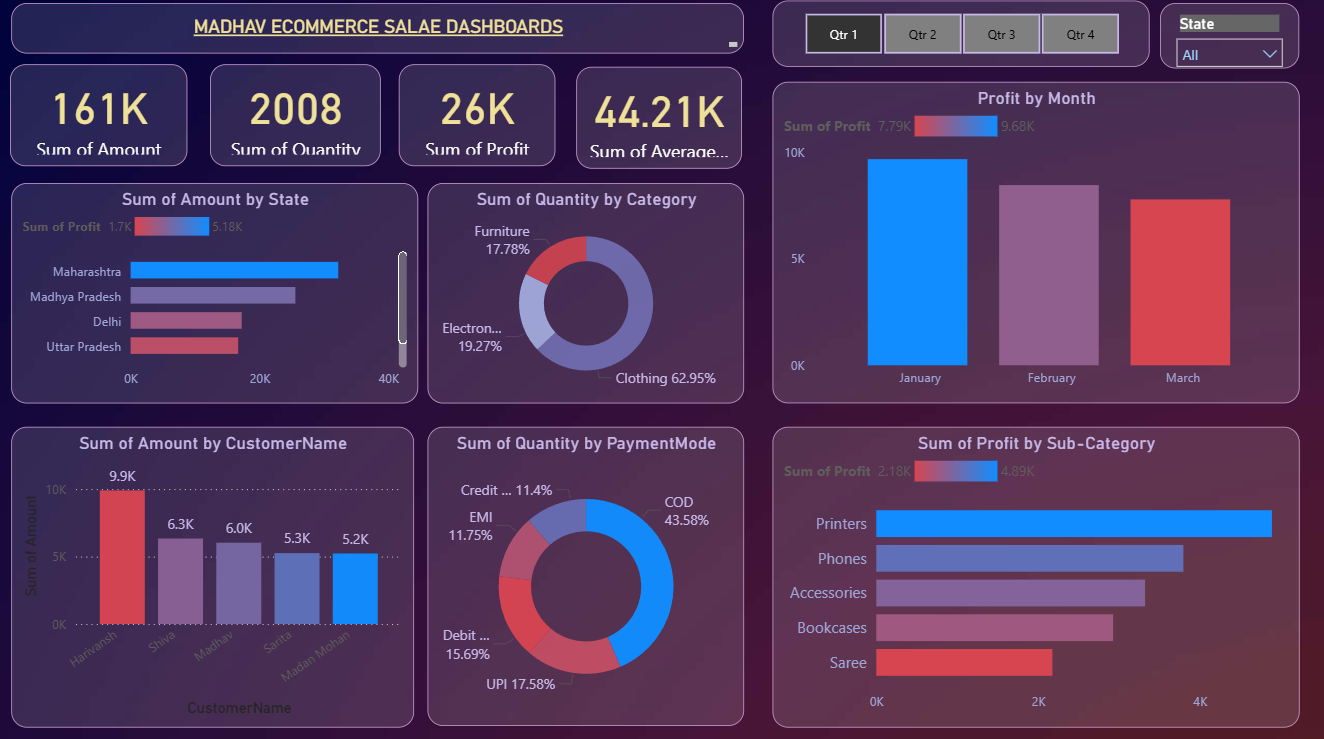

The page's visual inventory and layout, read from the dashboard file:
{"tool":"powerbi","page":{"name":"Page 1","canvas":[1280,720],"ordinal":0},"visuals":[{"type":"textbox","title":"MADHAV  ECOMMERCE SALAE DASHBOARDS","box":[0,4.8,708.2,48.3],"z":0},{"type":"columnChart","title":" Profit by Month","fields":{"Category":["Orders.Order Date.Variation.Date Hierarchy.Month"],"Y":["Details.Profit"]},"box":[745.7,81.4,508.6,310],"z":1000},{"type":"barChart","fields":{"Category":["Details.Sub-Category"],"Y":["Details.Profit"]},"box":[745.7,414.3,508.6,290],"z":3000},{"type":"donutChart","fields":{"Category":["Details.Category"],"Y":["Details.Quantity"]},"box":[412.9,178.6,305.7,212.9],"z":4000},{"type":"donutChart","fields":{"Y":["Details.Quantity"],"Category":["Details.PaymentMode"]},"box":[412.9,414.3,305.7,288.6],"z":5000},{"type":"card","fields":{"Values":["Details.Amount"]},"box":[10,63.8,171.2,98.8],"z":6000},{"type":"card","fields":{"Values":["Details.Quantity"]},"box":[202.5,63.8,165,98.8],"z":7000},{"type":"card","fields":{"Values":["Details.Profit"]},"box":[385,63.8,151.2,98.8],"z":8000},{"type":"card","fields":{"Values":["Details.Average oeder value"]},"box":[556.2,66.2,160,98.8],"z":9000},{"type":"barChart","fields":{"Category":["Orders.State"],"Y":["Details.Amount"]},"box":[11.4,178.6,392.9,212.9],"z":10000},{"type":"columnChart","fields":{"Category":["Orders.CustomerName"],"Y":["Details.Amount"]},"box":[11.4,414.3,388.6,290],"z":11000},{"type":"slicer","fields":{"Values":["Orders.Order Date.Variation.Date Hierarchy.Quarter"]},"box":[745.7,2.9,364.3,64.3],"z":12000},{"type":"slicer","fields":{"Values":["Orders.State"]},"box":[1120,4.3,134.3,62.9],"z":13000}]}

Visuals, with their boxes in screenshot pixels (x1, y1, x2, y2), scaled from the page's 1280x720 canvas onto the 1324x739 screenshot:
"MADHAV  ECOMMERCE SALAE DASHBOARDS" textbox: 0/5/733/55
" Profit by Month" columnChart: 771/84/1297/402
barChart - Details.Sub-Category x Details.Profit: 771/425/1297/723
donutChart - Details.Category x Details.Quantity: 427/183/743/402
donutChart - Details.Quantity x Details.PaymentMode: 427/425/743/721
card - Details.Amount: 10/65/187/167
card - Details.Quantity: 209/65/380/167
card - Details.Profit: 398/65/555/167
card - Details.Average oeder value: 575/68/741/169
barChart - Orders.State x Details.Amount: 12/183/418/402
columnChart - Orders.CustomerName x Details.Amount: 12/425/414/723
slicer - Orders.Order Date.Variation.Date Hierarchy.Quarter: 771/3/1148/69
slicer - Orders.State: 1158/4/1297/69
